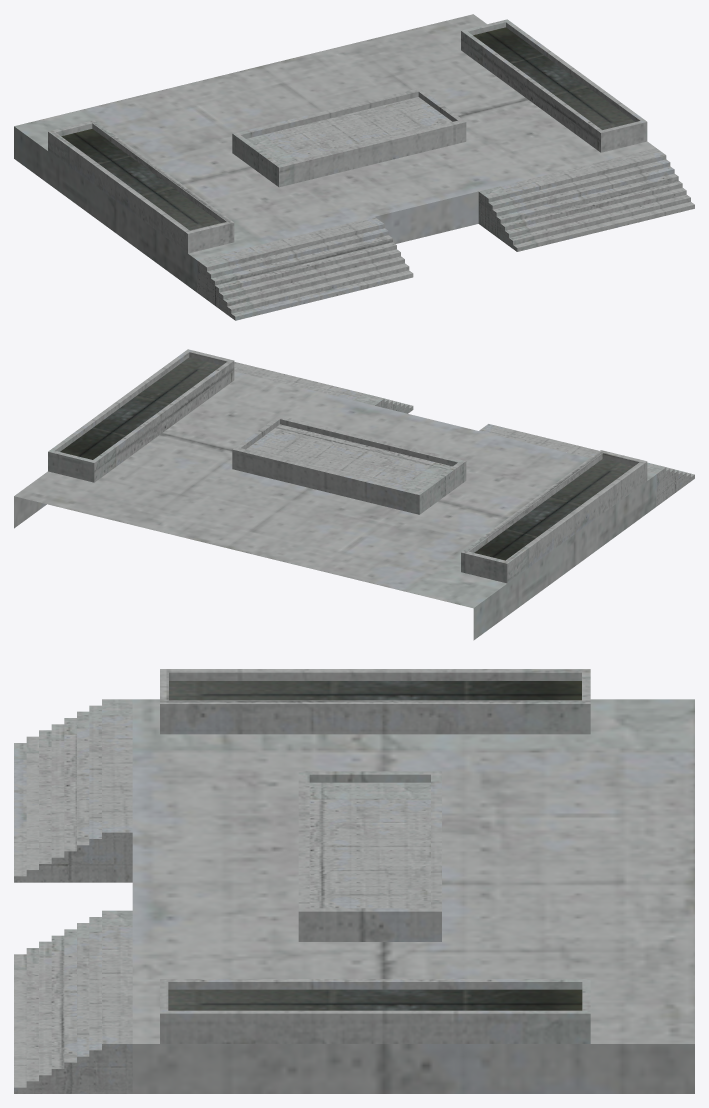
File: Citybuilding01.fbx
The picture shows the model from 3 angles, top to bottom: view 1: azimuth 30°, elevation 25°; view 2: azimuth 150°, elevation 25°; view 3: azimuth 270°, elevation 25°; orthographic projection. The views are drawn at different scales.
Parts seen in each view (by area): view 1: Citybuilding01; view 2: Citybuilding01; view 3: Citybuilding01.
Boxes of the visible parts, <box> form: Citybuilding01: <box>14,14,694,320</box>; Citybuilding01: <box>14,349,694,640</box>; Citybuilding01: <box>14,669,694,1093</box>.
Bounding box in the file's own units: 3484 × 377 × 2909.
